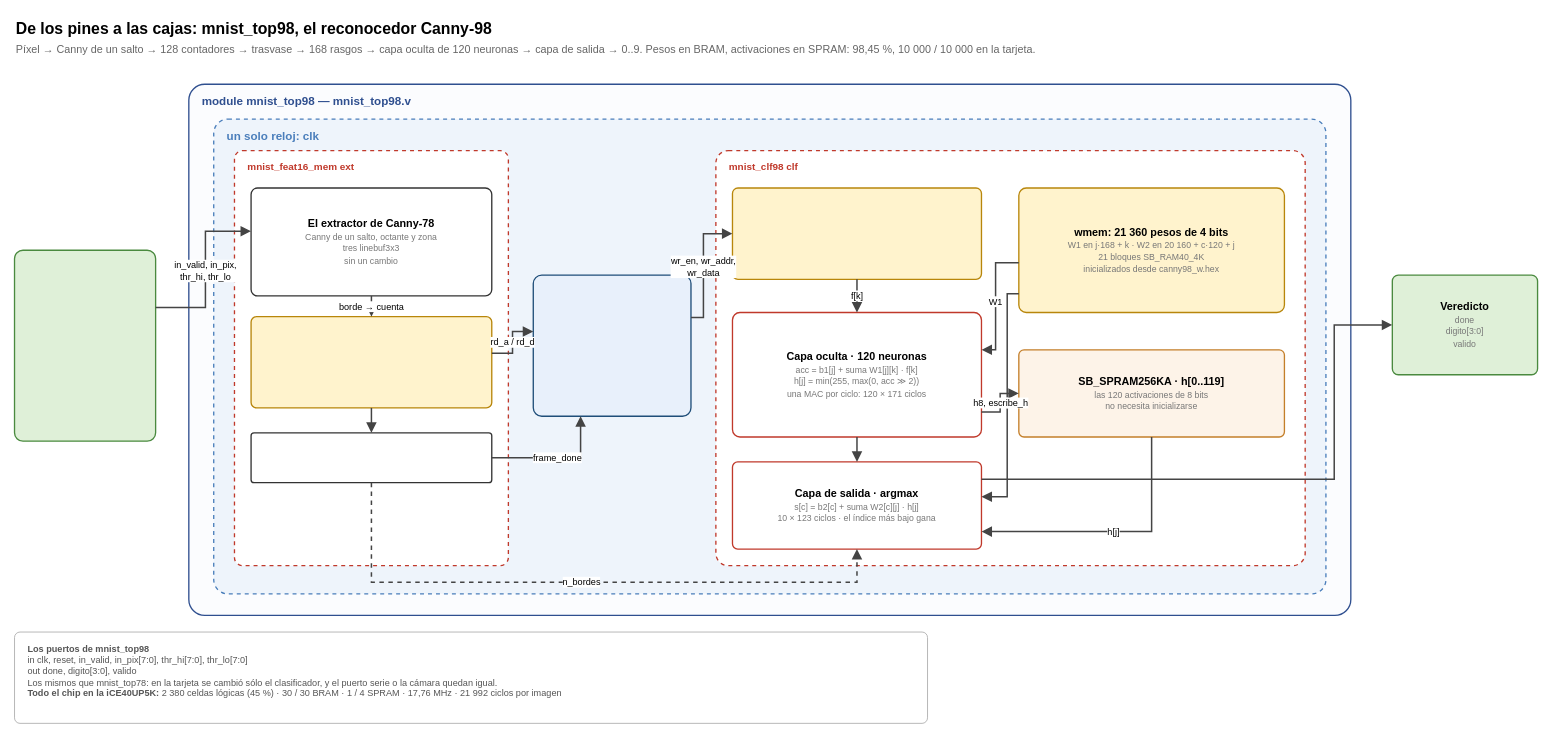
Image size: 1553x738. Some labels were removed from this diagram. Each missing label, with the centre of its shape:
128 contadores 16 zonas × 8 octantes en memoria síncrona: the point at 371,362
Entrada clk · reset in_valid in_pix[7:0] thr_hi[7:0] = 90 thr_lo[7:0] = 32: the point at 84,345
fmem: 168 rasgos 0..127 nivel 2 · 128..159 nivel 1 160..167 nivel 0 (derivados): the point at 856,233
frame_done · n_bordes: the point at 371,457
Trasvase 128 lecturas rd_clr vacía cada contador 130 ciclos: the point at 611,345
